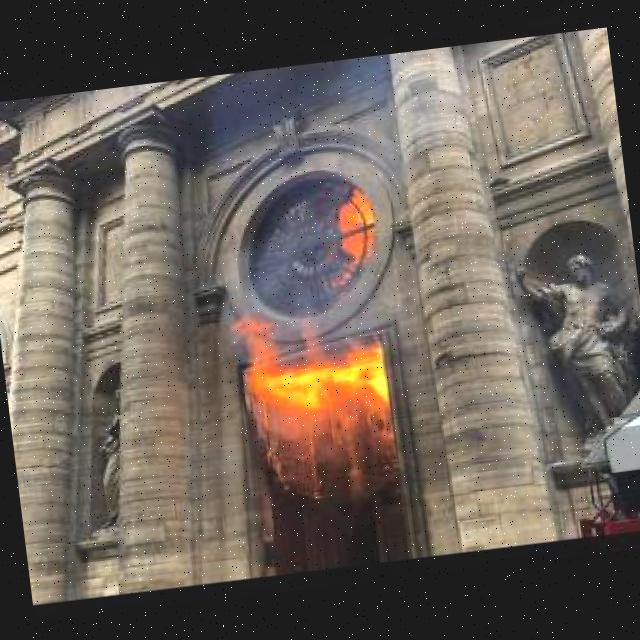fire: (224, 297, 400, 440), (325, 177, 387, 267)
